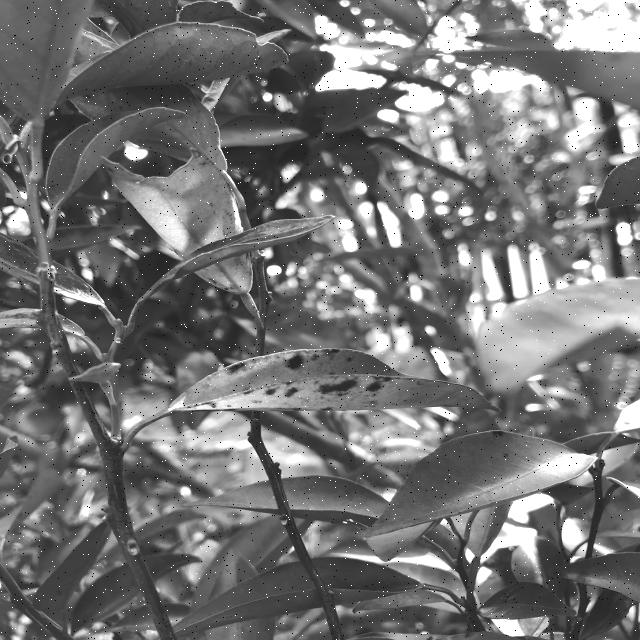melanose: (164, 338, 472, 437)
